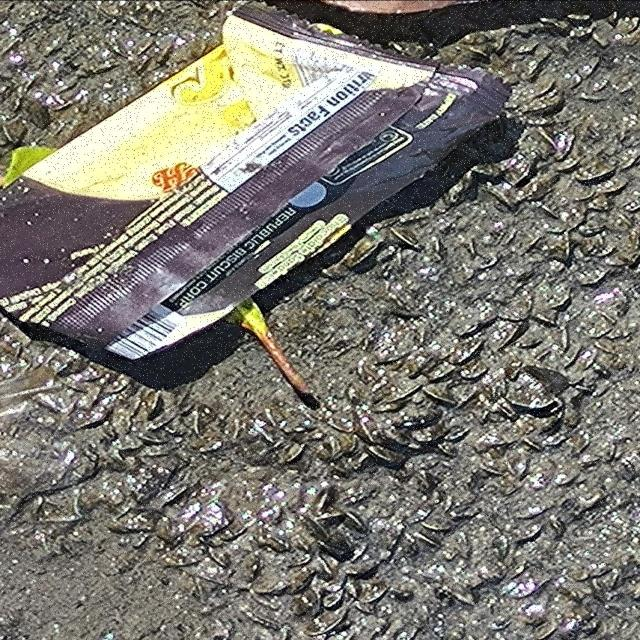plastic_waste: (1, 1, 517, 365)
